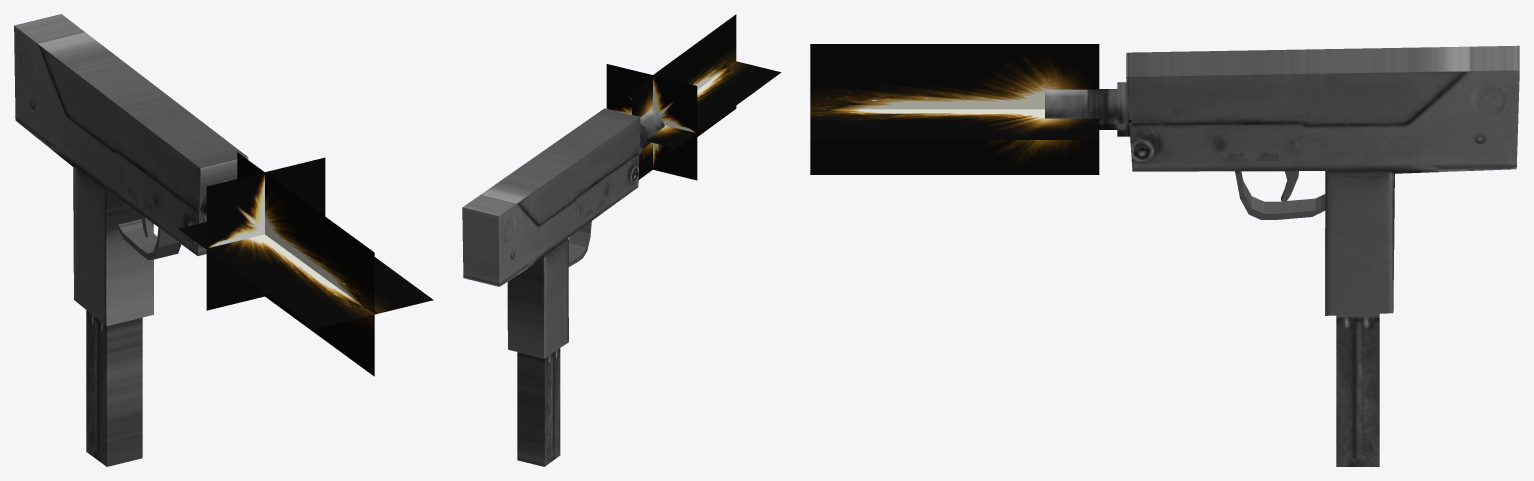
The model's file is mpistol.FBX.
The picture shows the model from 3 angles, left to right: view 1: azimuth 30°, elevation 25°; view 2: azimuth 150°, elevation 25°; view 3: azimuth 270°, elevation 25°; orthographic projection. The views are drawn at different scales.
Visible parts, largest first — view 1: mpistol, muzzle; view 2: mpistol, muzzle; view 3: mpistol, muzzle.
Boxes of the visible parts, x1,y1,x2,y2 form: mpistol: (14,14,248,466); muzzle: (178,152,433,376); mpistol: (462,108,664,466); muzzle: (606,14,780,180); mpistol: (1045,45,1519,466); muzzle: (810,44,1099,174).
Size of the model in its own units: 101 by 491 by 316.
